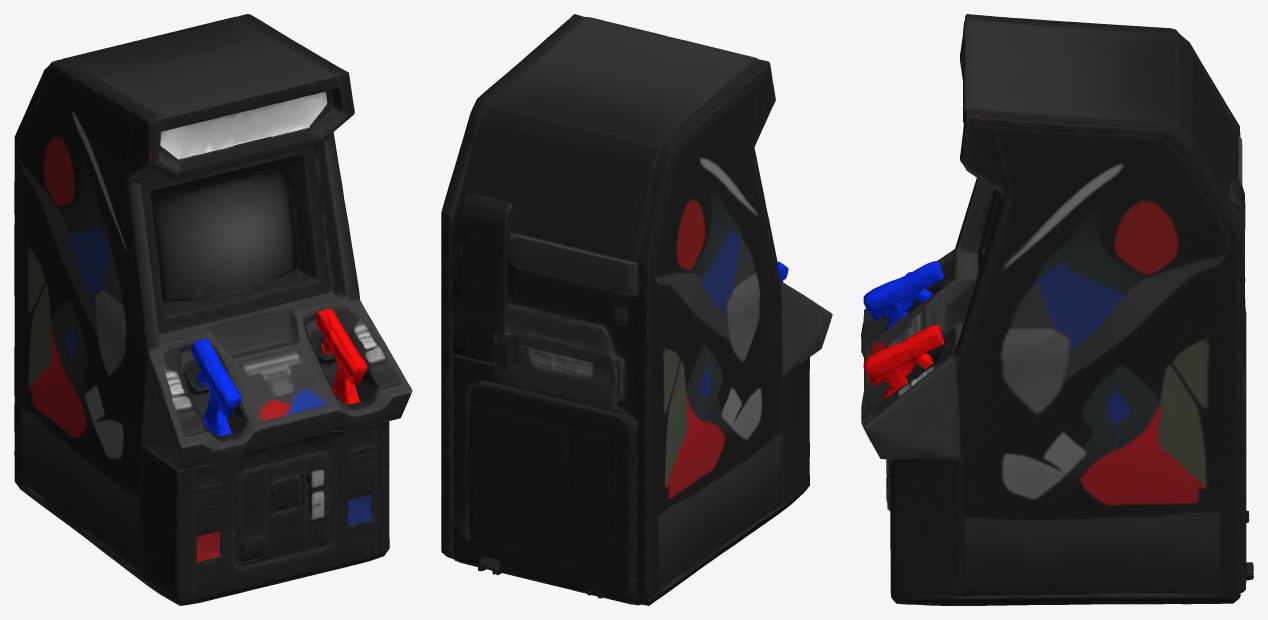
The model's file is 10_arcade_10_light_gun_cabinet.glb.
The picture shows the model from 3 angles, left to right: view 1: azimuth 30°, elevation 25°; view 2: azimuth 150°, elevation 25°; view 3: azimuth 270°, elevation 25°; orthographic projection. The views are drawn at different scales.
Parts seen in each view (by area): view 1: world; view 2: world; view 3: world.
Part boxes in pixels (x1,y1,x2,y2): world: (14, 14, 412, 605); world: (441, 14, 832, 605); world: (861, 14, 1253, 605).
Bounding box in the file's own units: 0.5276 × 1 × 0.7327.
1 material, 1 textured.
